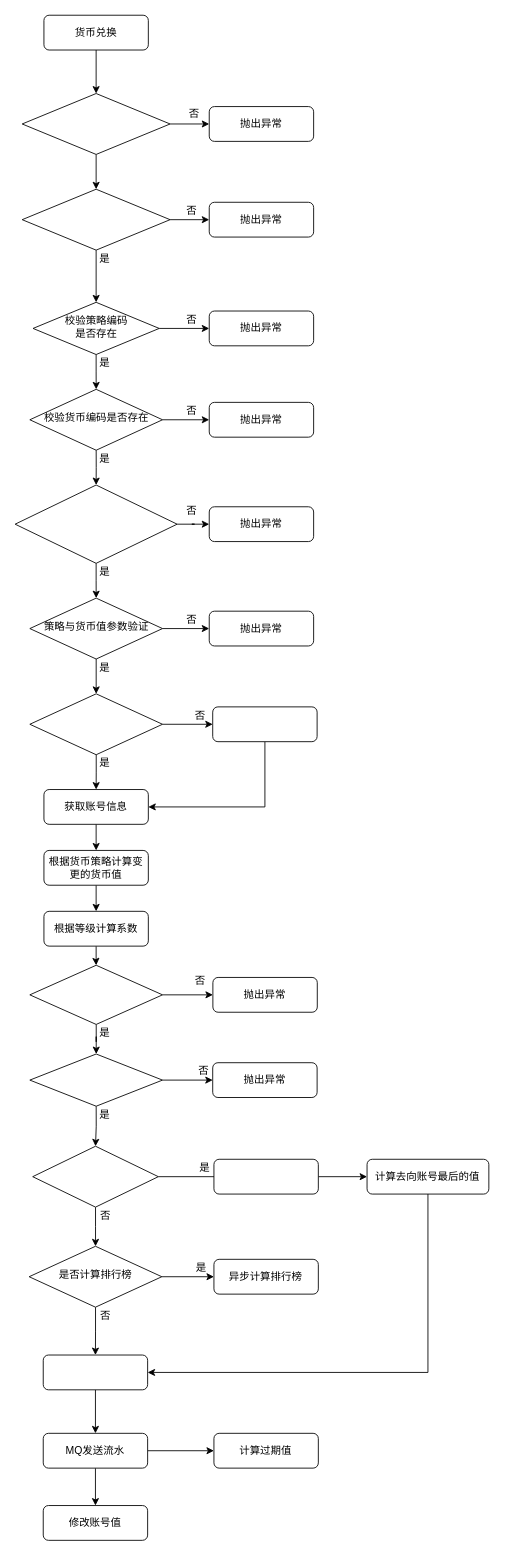
This 505x1556 diagram has some shape labels left out. The centre of each missing label's shape, as x and y in pixels:
创建账号: [264,724]
增加流水: [95,1372]
是否自动兑换: [95,1176]
查询账号是否存在: [96,724]
校验数据是否正确: [95,123]
校验触点端编码是否存在: [95,219]
校验账号是否够扣减: [96,994]
校验货币编码、触点编码、策略编码关联关系是否正确: [95,523]
校验限制数量 获取总值: [96,1079]
计算源账号最后的值: [265,1176]
